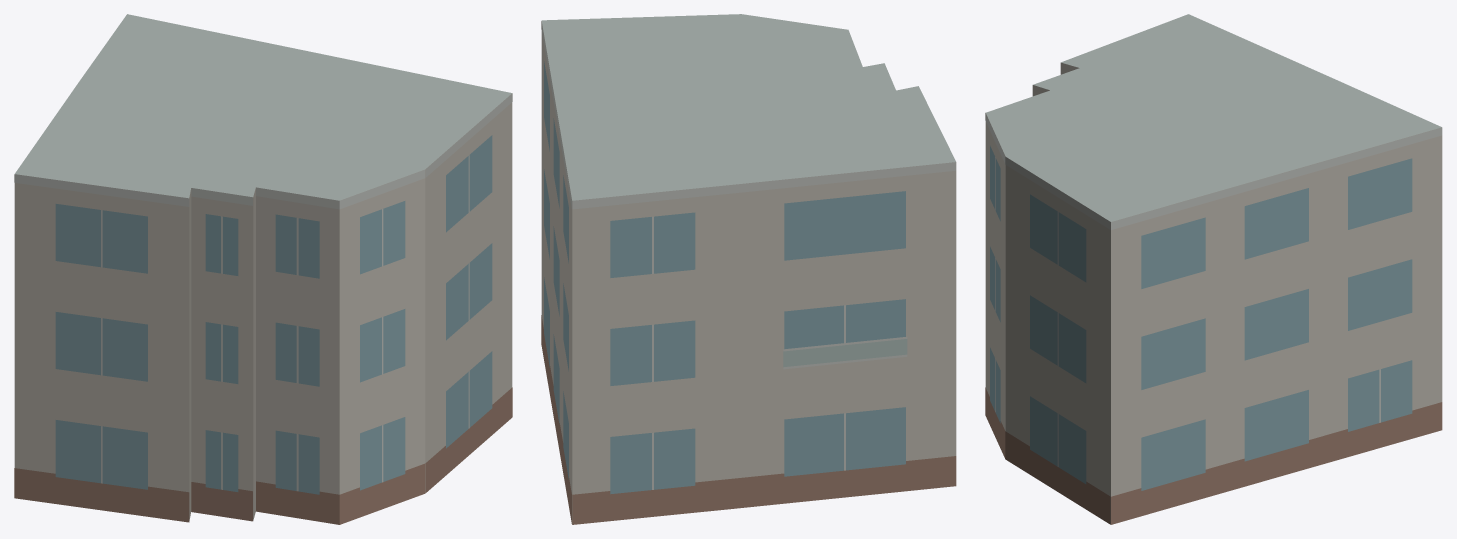
Rendered from survey-upis-32754532.glb.
3 views of the same model, side by side, from view 1: azimuth 30°, elevation 25°; view 2: azimuth 150°, elevation 25°; view 3: azimuth 270°, elevation 25° (orthographic). The views are drawn at different scales.
Parts seen in each view (by area): view 1: survey-upis-32754532.tmp; view 2: survey-upis-32754532.tmp; view 3: survey-upis-32754532.tmp.
Part boxes in pixels (box(x1,y1,x2,y2)): survey-upis-32754532.tmp: box(14, 14, 512, 524); survey-upis-32754532.tmp: box(541, 14, 956, 524); survey-upis-32754532.tmp: box(985, 14, 1442, 524).
Size of the model in its own units: 13.42 by 9.1 by 12.45.
